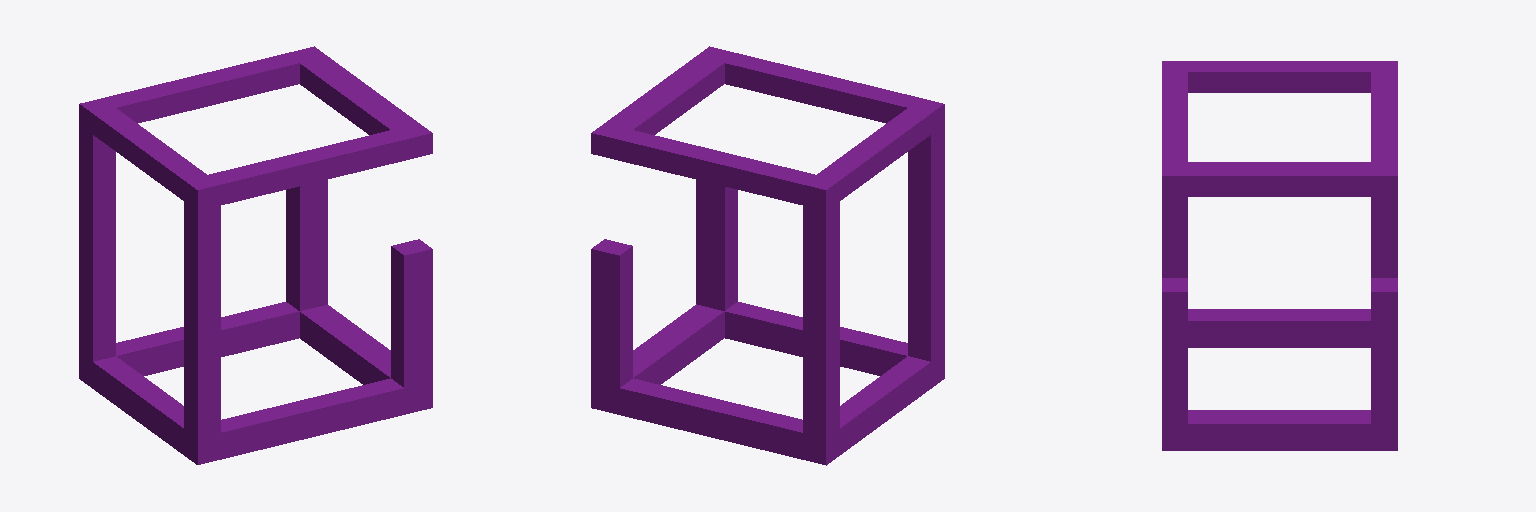
File: try3.obj
The picture shows the model from 3 angles: view 1: azimuth 30°, elevation 25°; view 2: azimuth 150°, elevation 25°; view 3: azimuth 270°, elevation 25°; orthographic projection.
Size of the model in its own units: 4.45 by 4.98 by 3.88.